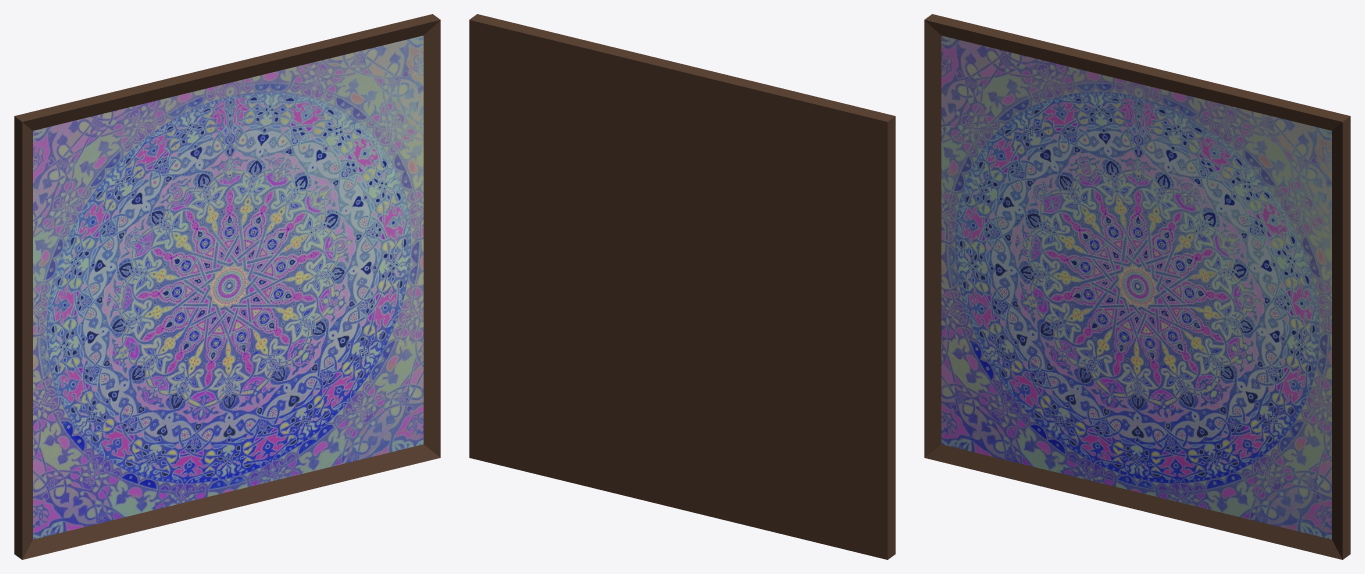
File: tridecagon-moon-star-tridecagon-supernova-violet-a0-walnut-tray-v2.glb
3 renders of one model, left to right at view 1: azimuth 30°, elevation 25°; view 2: azimuth 150°, elevation 25°; view 3: azimuth 330°, elevation 25°, orthographic.
Parts seen in each view (by area): view 1: FramedPrint; view 2: FramedPrint; view 3: FramedPrint.
Boxes of the visible parts, box(x1,y1,x2,y2) form: FramedPrint: box(14, 14, 440, 559); FramedPrint: box(469, 14, 895, 559); FramedPrint: box(924, 14, 1350, 559).
Bounding box in the file's own units: 0.9 × 0.9 × 0.03.
2 materials, 1 textured.
